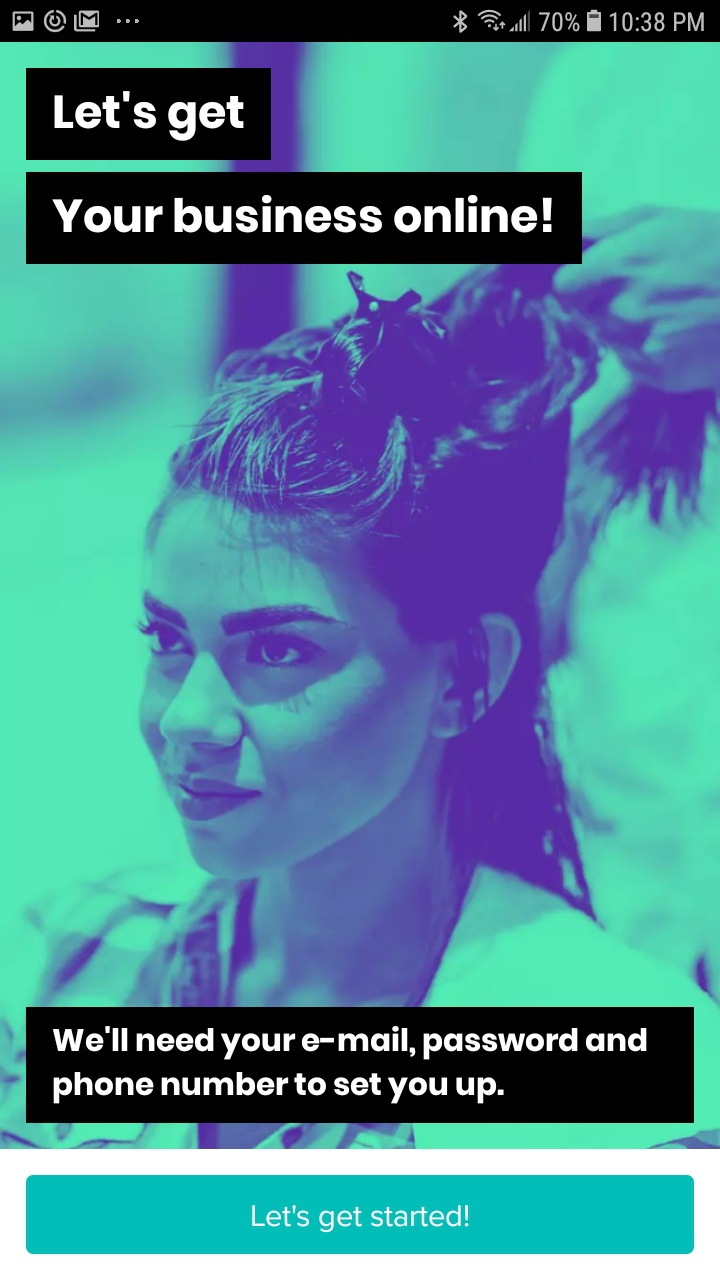Image: (1, 43, 720, 1149)
Text: (53, 1025, 647, 1105), (52, 195, 552, 235), (54, 91, 245, 143)
TextButton: (27, 1175, 695, 1255)
UpperTaskBar: (1, 1, 720, 43)
